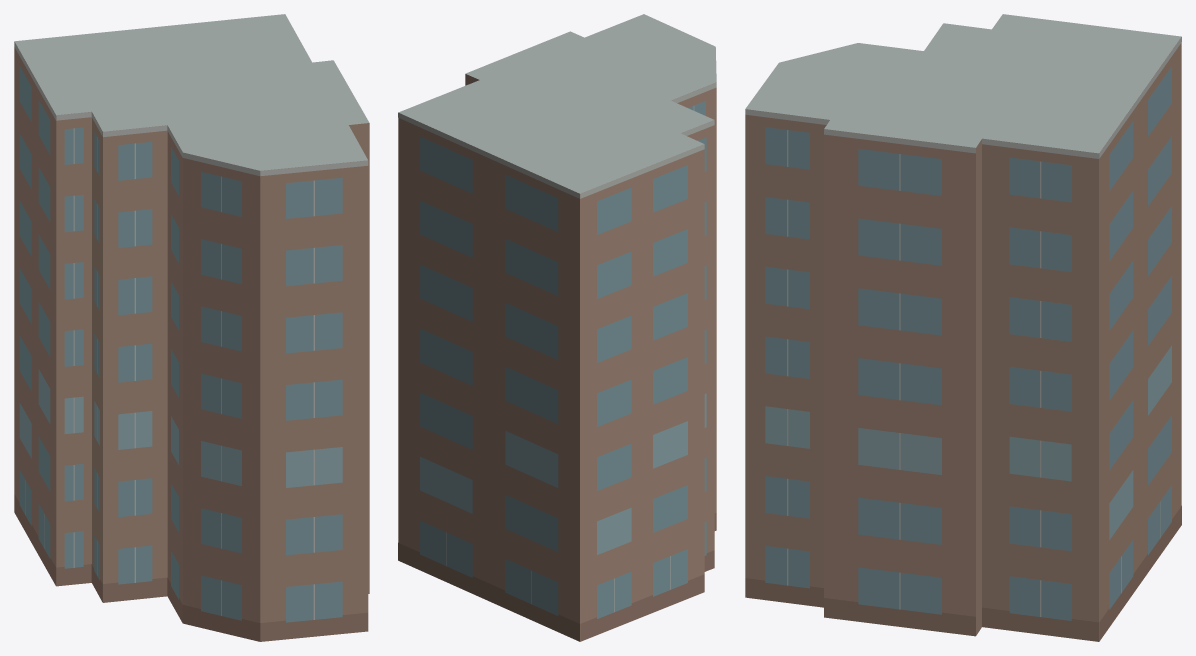
File: survey-upis-32958581.glb
3 renders of one model, left to right at view 1: azimuth 30°, elevation 25°; view 2: azimuth 150°, elevation 25°; view 3: azimuth 270°, elevation 25°, orthographic. The views are drawn at different scales.
Parts seen in each view (by area): view 1: survey-upis-32958581.tmp; view 2: survey-upis-32958581.tmp; view 3: survey-upis-32958581.tmp.
Boxes of the visible parts, x1,y1,x2,y2 form: survey-upis-32958581.tmp: (14,14,369,641); survey-upis-32958581.tmp: (398,14,716,641); survey-upis-32958581.tmp: (745,14,1181,641).
Bounding box in the file's own units: 13.05 × 21.3 × 17.27.
